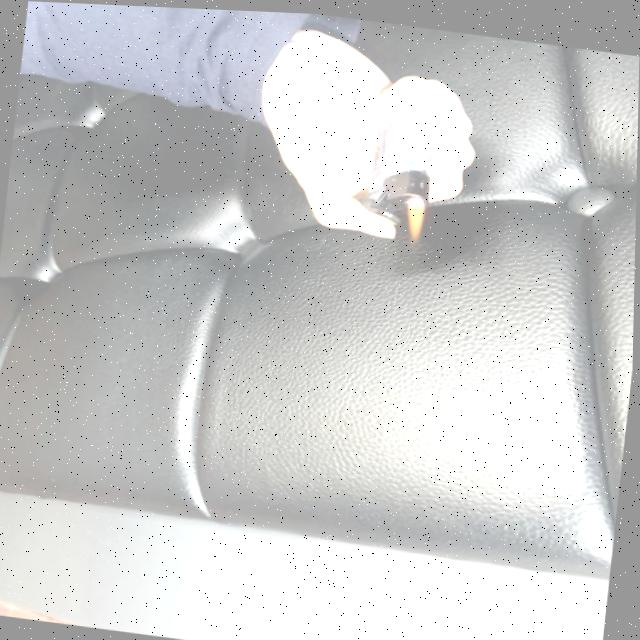Fire: (403, 191, 426, 235)
